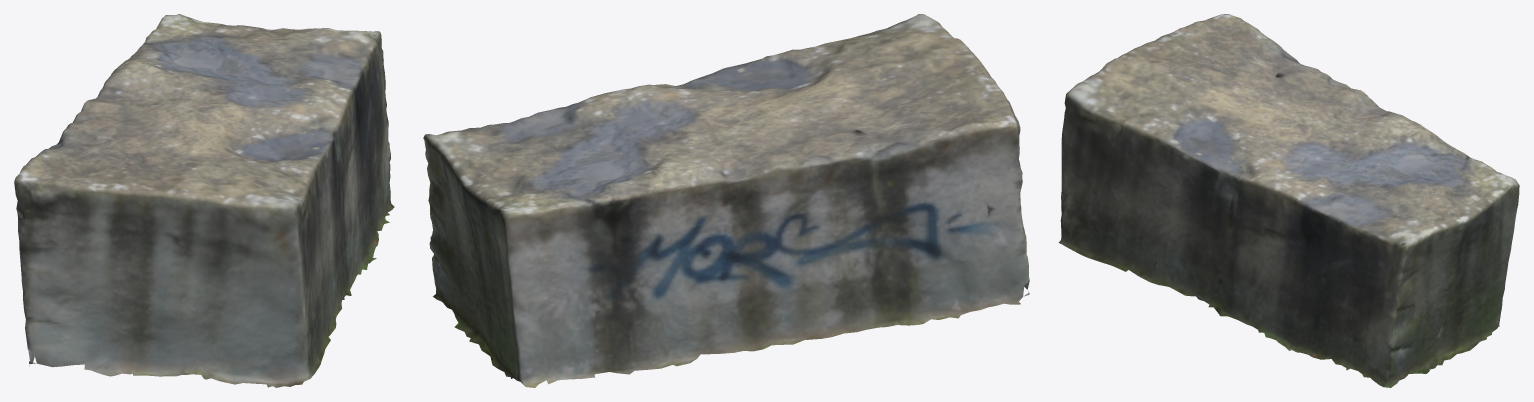
Rendered from finished stone.fbx.
3 views of the same model, side by side, from view 1: azimuth 30°, elevation 25°; view 2: azimuth 150°, elevation 25°; view 3: azimuth 270°, elevation 25° (orthographic). The views are drawn at different scales.
Visible parts, largest first — view 1: Model; view 2: Model; view 3: Model.
Boxes of the visible parts, left/top/right/bottom form: Model: left=14, top=14, right=394, bottom=387; Model: left=423, top=14, right=1029, bottom=387; Model: left=1059, top=14, right=1519, bottom=387.
Size of the model in its own units: 1.55 by 0.6926 by 1.54.
